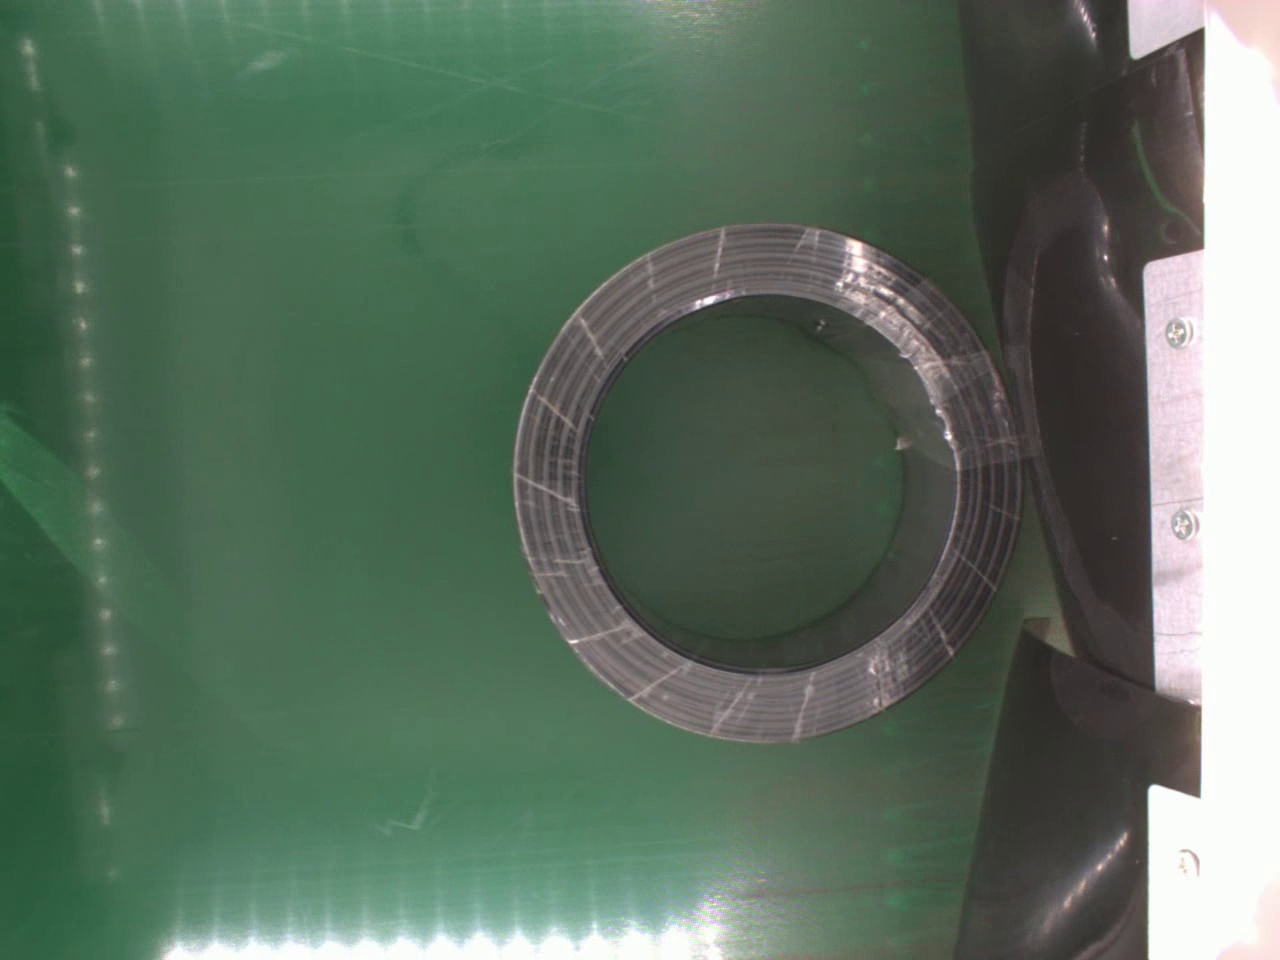black: (491, 213, 1033, 754)
